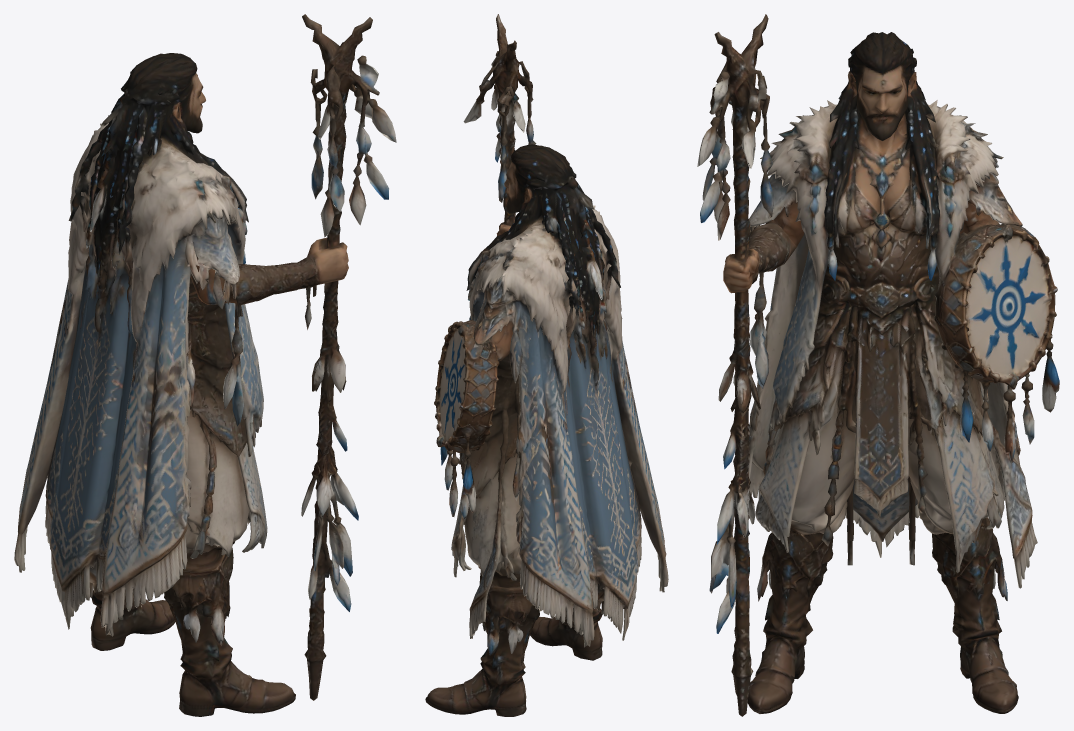
Rendered from drumcalleralt_T0-tripo.glb.
The picture shows the model from 3 angles, left to right: view 1: azimuth 30°, elevation 25°; view 2: azimuth 150°, elevation 25°; view 3: azimuth 270°, elevation 25°; orthographic projection. The views are drawn at different scales.
Parts seen in each view (by area): view 1: tripo_node_f64738a0-8f39-4a6a-975b-2d67a7784dbb; view 2: tripo_node_f64738a0-8f39-4a6a-975b-2d67a7784dbb; view 3: tripo_node_f64738a0-8f39-4a6a-975b-2d67a7784dbb.
Part boxes in pixels (x1,y1,x2,y2): tripo_node_f64738a0-8f39-4a6a-975b-2d67a7784dbb: [14, 14, 396, 716]; tripo_node_f64738a0-8f39-4a6a-975b-2d67a7784dbb: [425, 14, 668, 716]; tripo_node_f64738a0-8f39-4a6a-975b-2d67a7784dbb: [697, 14, 1059, 716].
Size of the model in its own units: 0.393 by 1 by 0.4609.
Materials: 1 (1 with a texture image).
